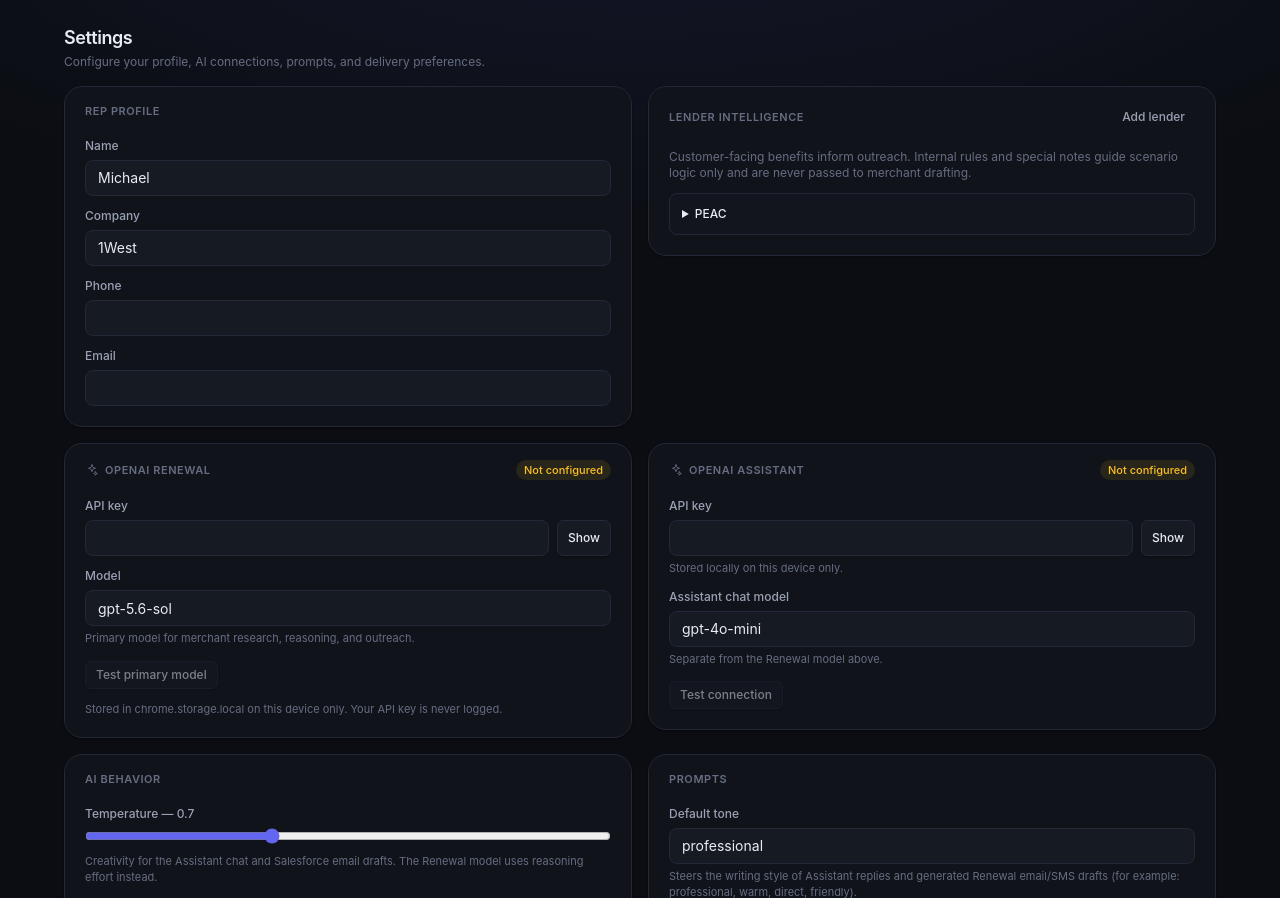
Test: SettingsPage Assistant OpenAI configuration › saves the Assistant key and model independently from Renewal
The image size is (1280, 898).
In the password field labelled "API key Show" below "OpenAI Assistant": (901, 538) 669,520 -> 1133,556, type "test-assistant-key"
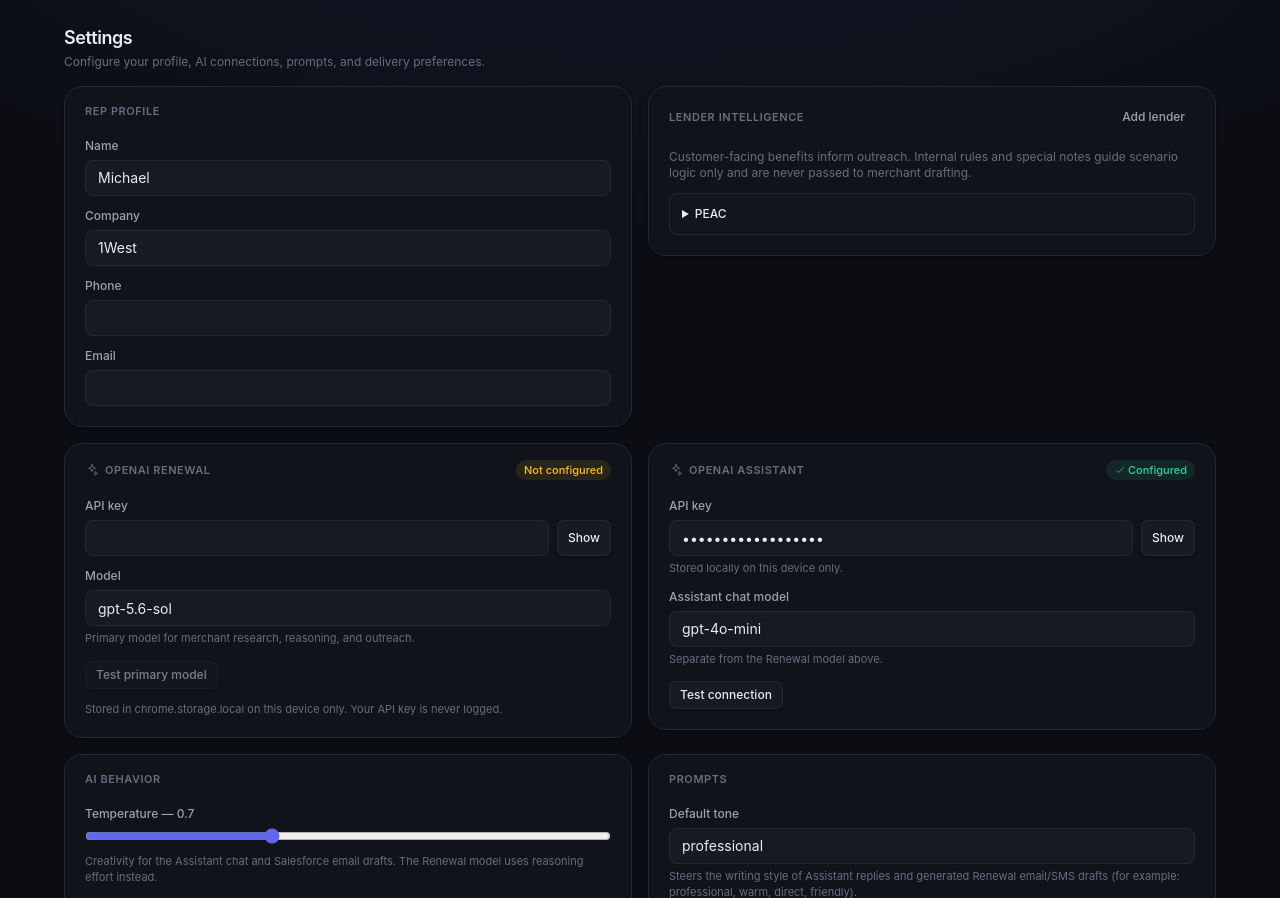
Replace the text in the field labelled "Assistant chat model" with "gpt-4.1-mini": (932, 628) 669,610 -> 1195,646
(page scrolled)
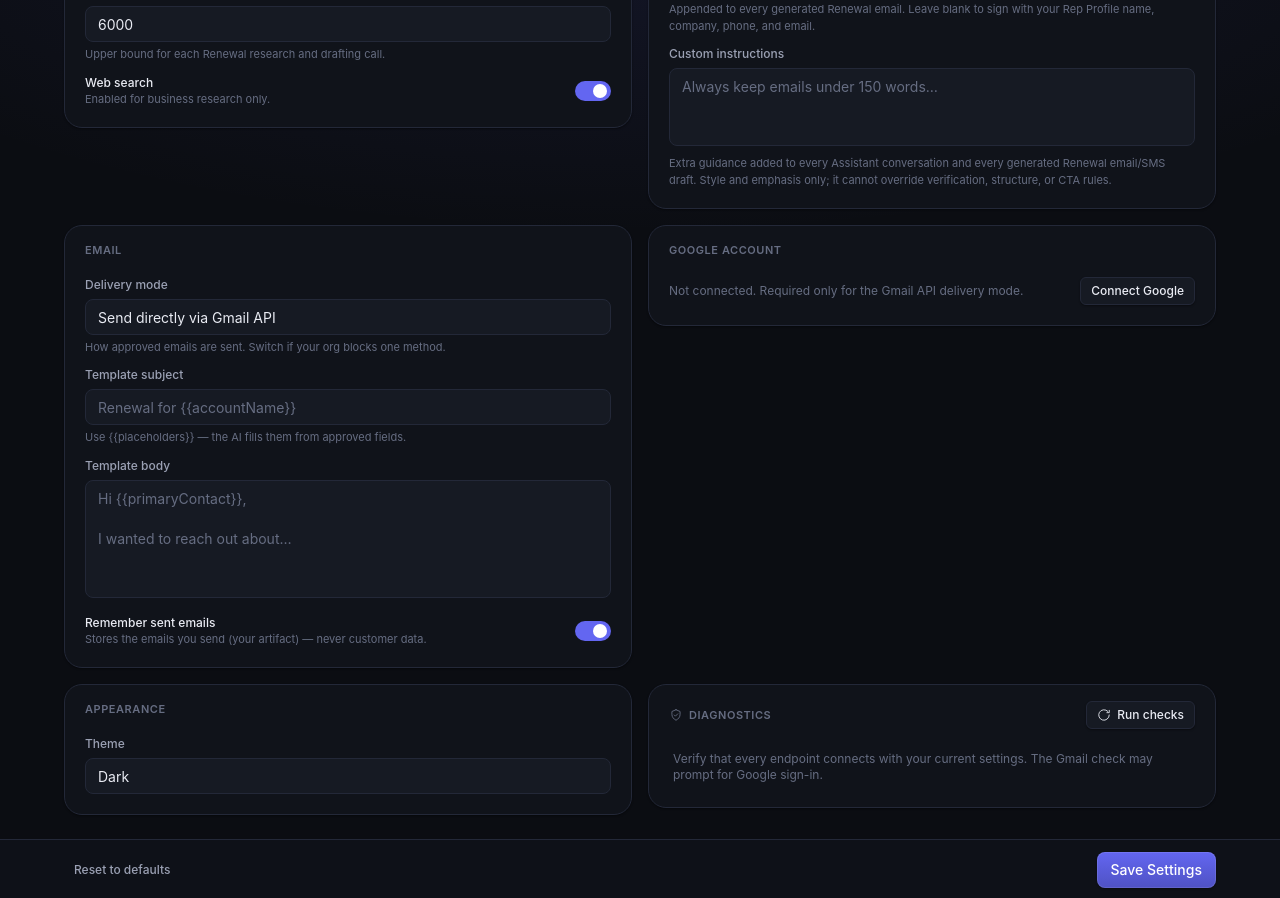
Click the button "Save Settings": click(1156, 870) 1097,852 -> 1216,888
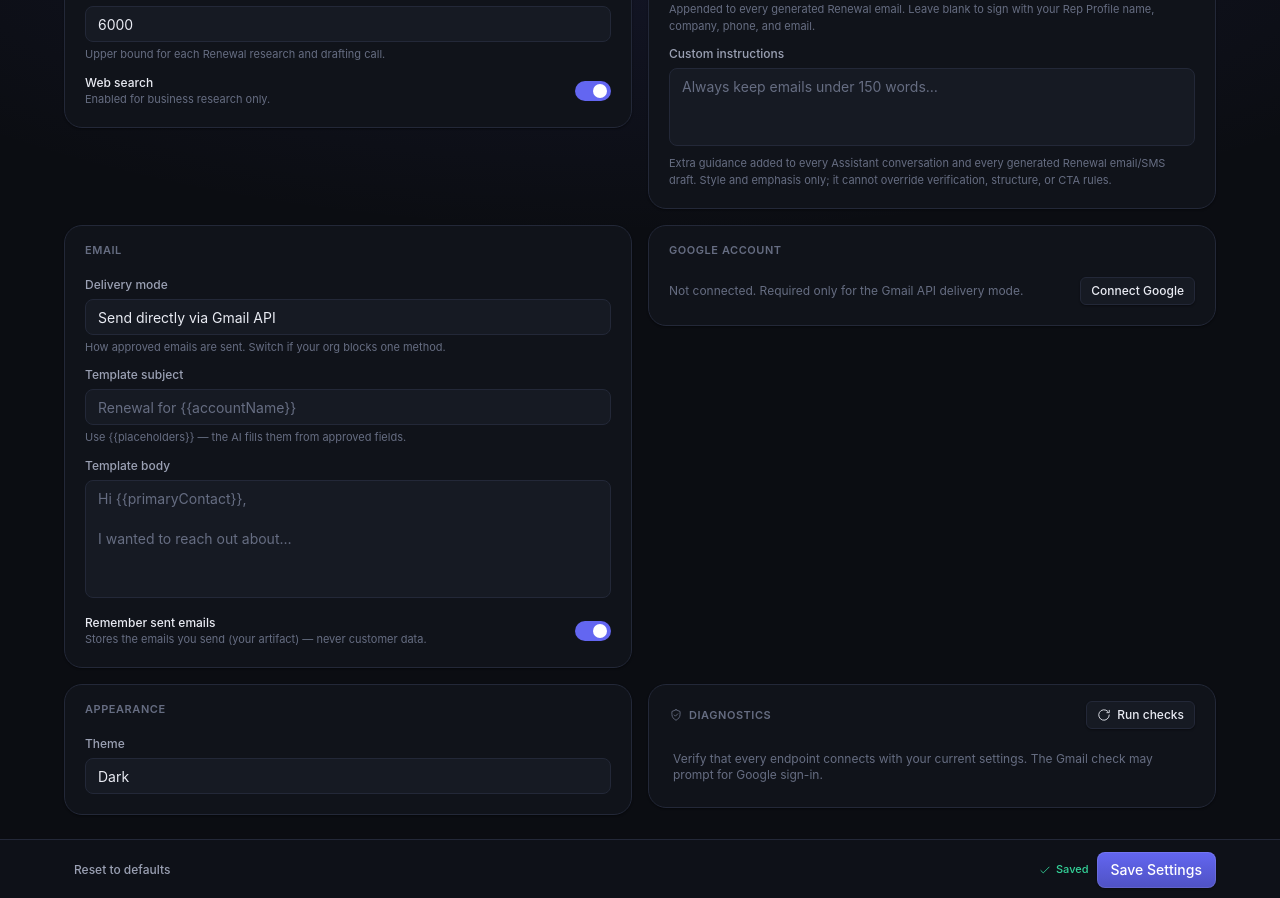
Result: the text "Saved" is shown at 1038,861 -> 1089,878
